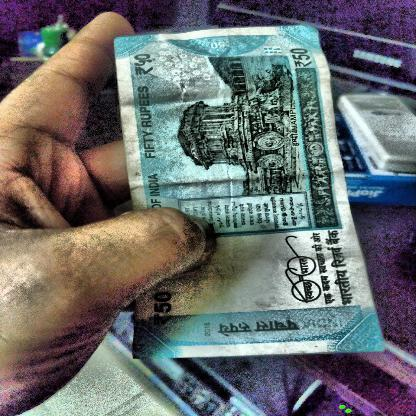Rs50: (288, 43, 315, 71)
